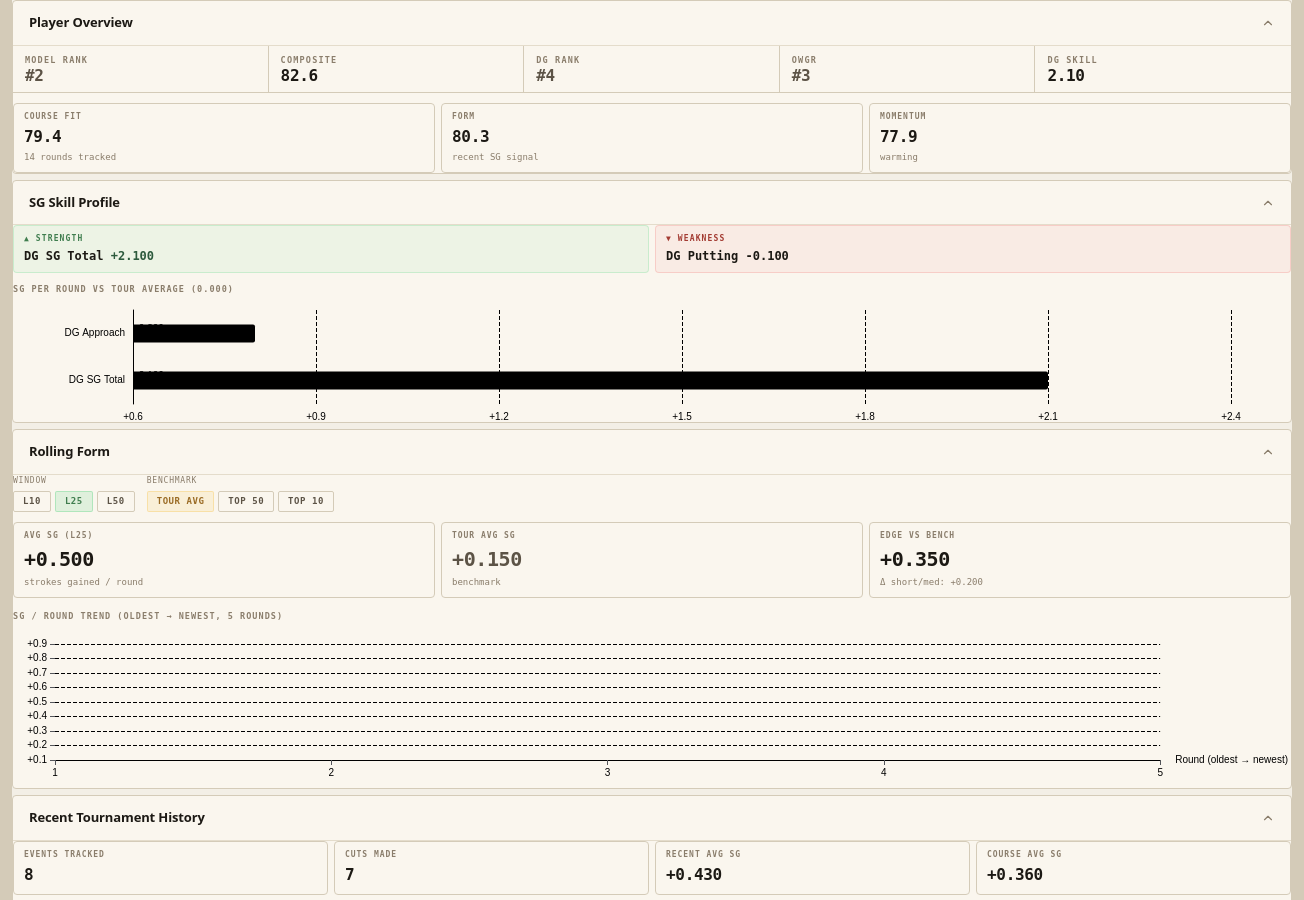
Test: PlayerProfileSections › renders rich profile sections with dynamic controls
The image size is (1304, 900).
Expected: the text "Player Overview" is shown, x1=29 y1=13 x2=133 y2=31
Expected: the text "SG Skill Profile" is shown, x1=29 y1=193 x2=120 y2=211
Click the button "L10".
click(32, 501)  # box x1=13 y1=490 x2=51 y2=512
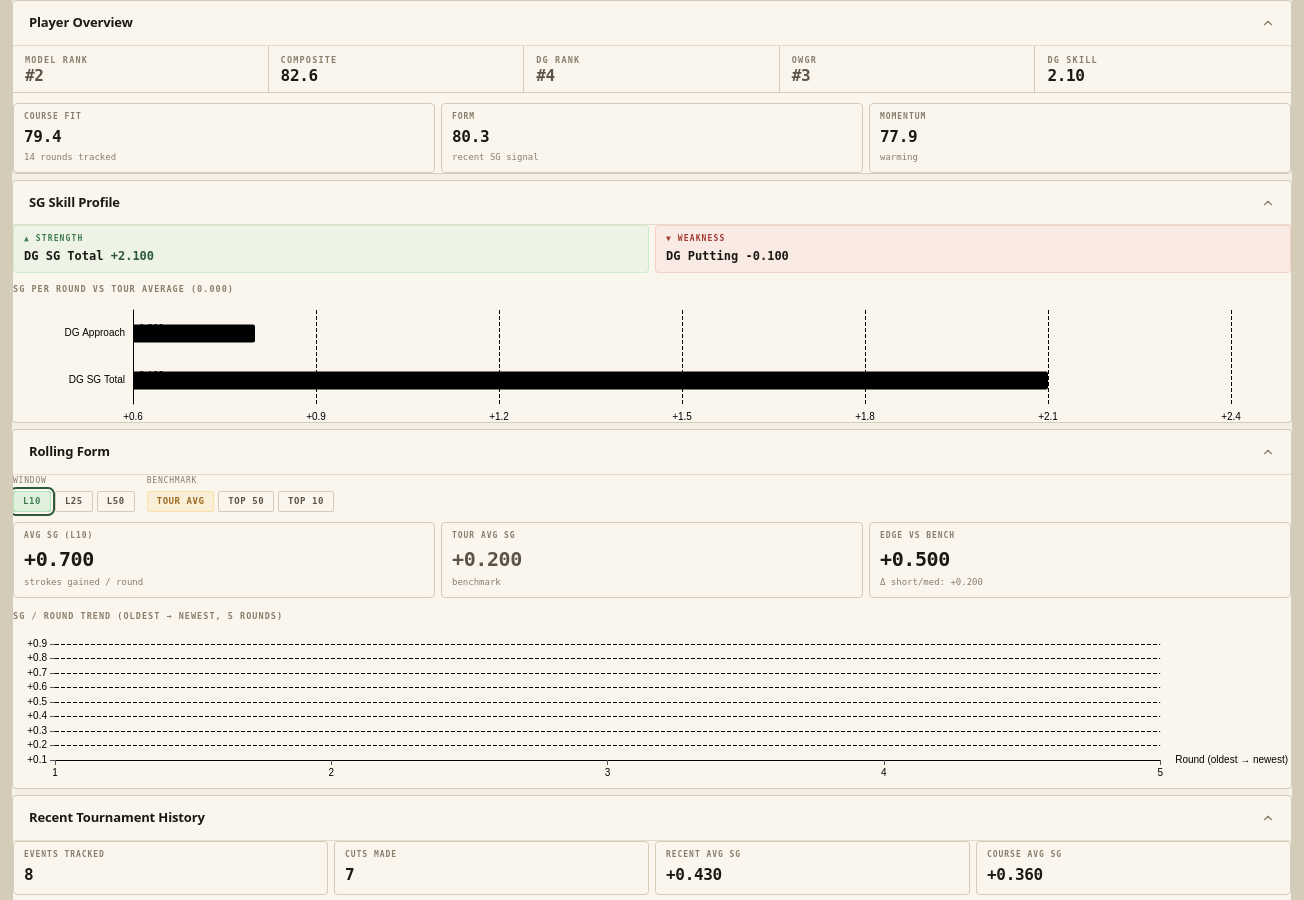
Expected: the text "Avg SG (L10)" is shown, x1=24 y1=531 x2=93 y2=540
Click the button "Top 10".
click(306, 501)  # box x1=278 y1=490 x2=334 y2=512
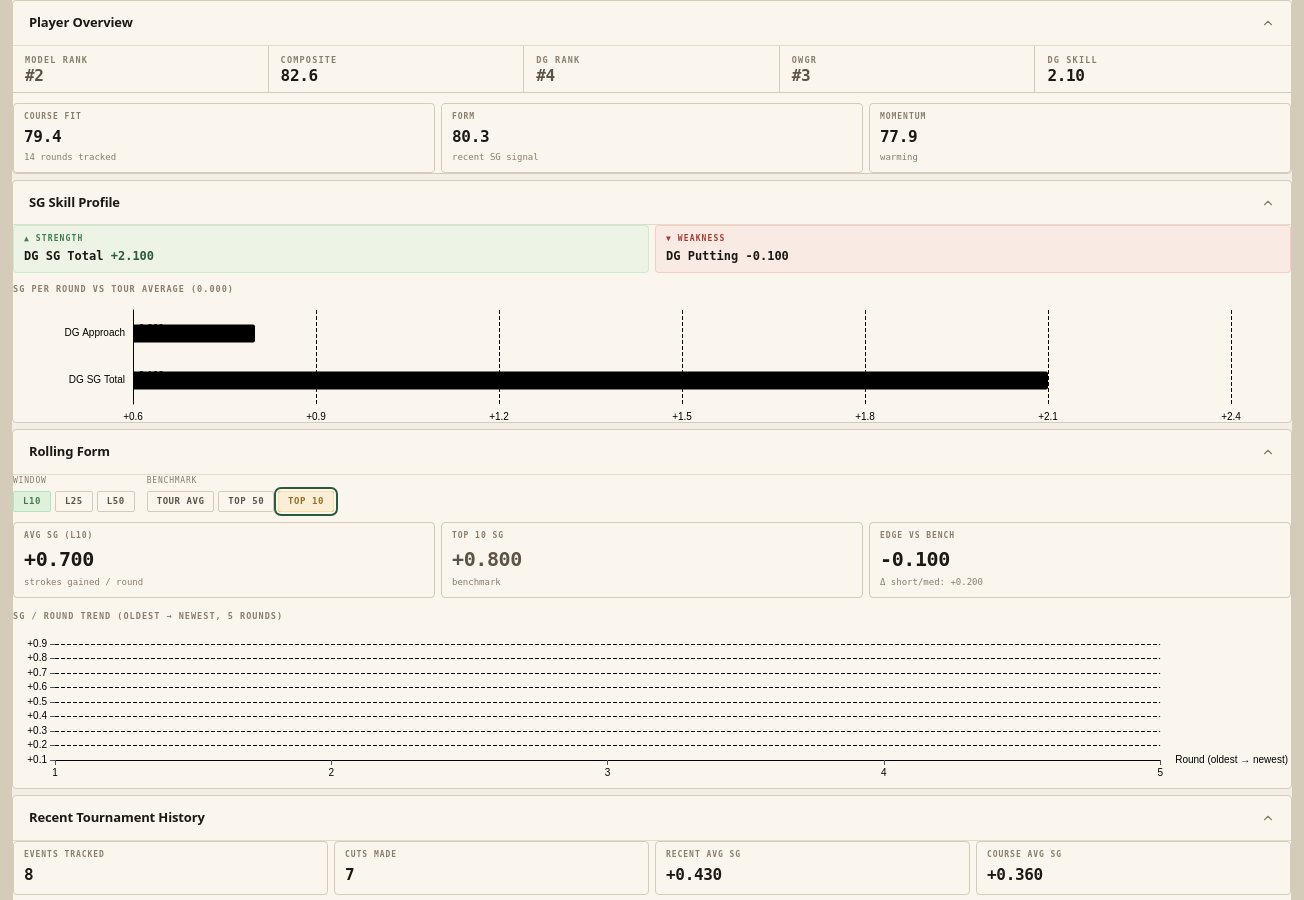
Expected: the text "Top 10 SG" is shown, x1=452 y1=531 x2=504 y2=540
